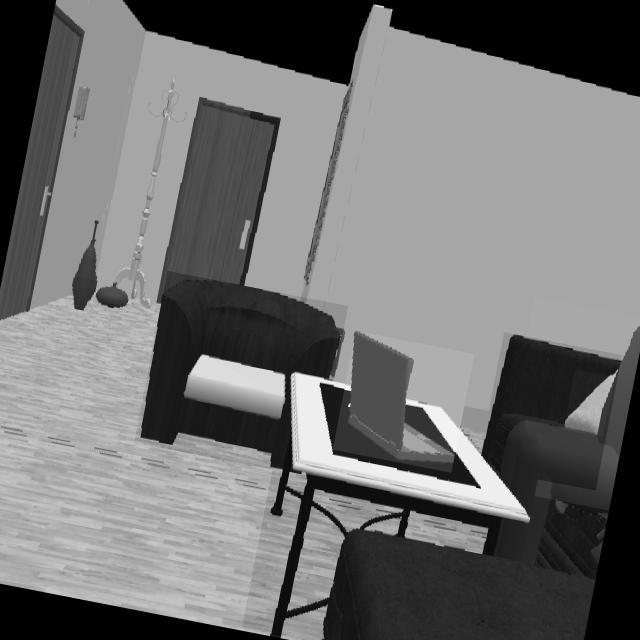laptop: (349, 331, 454, 463)
person: (499, 325, 640, 566)
pillow: (565, 377, 613, 435)
sofa: (321, 501, 607, 640), (140, 281, 342, 471), (481, 335, 619, 472)
table: (271, 373, 530, 636)
